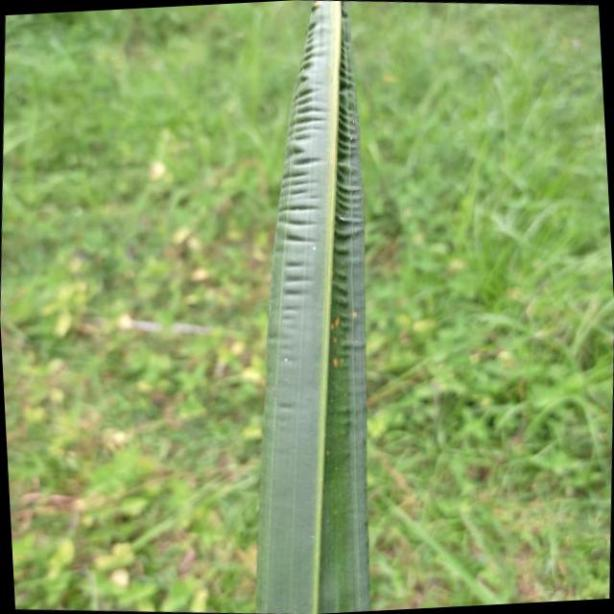Boron: (256, 0, 371, 614)
